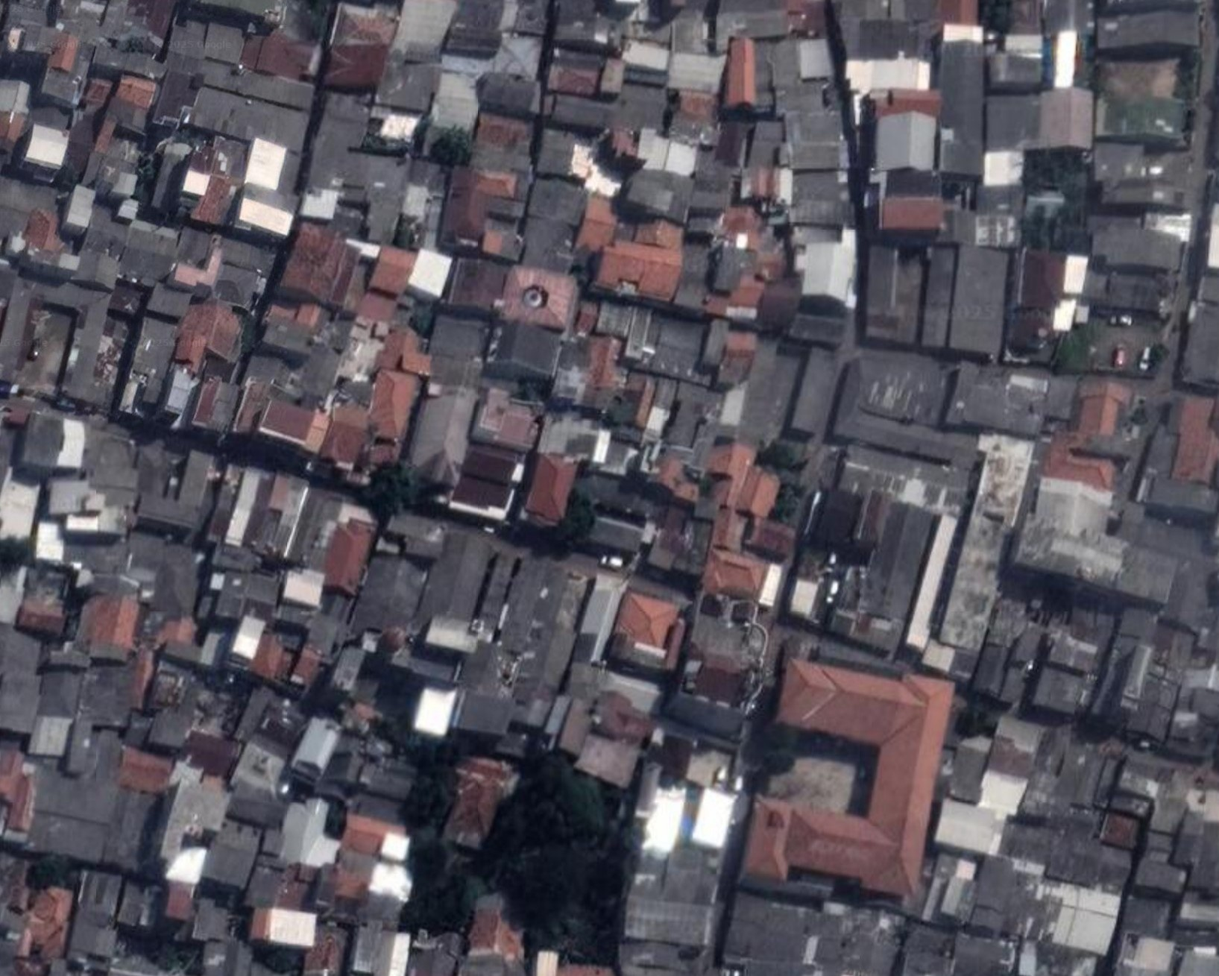building: (738, 650, 951, 905), (436, 542, 609, 765), (1012, 470, 1189, 606), (935, 432, 1035, 652), (227, 295, 360, 459), (285, 95, 422, 244), (832, 348, 997, 471), (965, 845, 1133, 959), (149, 19, 319, 127), (536, 653, 670, 788), (661, 597, 783, 740), (0, 277, 131, 409), (18, 764, 166, 875), (719, 891, 906, 976), (621, 839, 732, 976), (1101, 748, 1219, 872), (278, 493, 382, 632), (40, 417, 148, 547), (616, 288, 747, 394), (408, 529, 510, 664), (1015, 721, 1125, 841), (204, 460, 314, 578), (943, 702, 1049, 824), (1041, 374, 1146, 492), (995, 804, 1134, 893), (221, 597, 340, 700), (119, 437, 222, 546), (116, 279, 194, 422), (1085, 607, 1169, 739), (392, 385, 479, 509), (166, 222, 282, 315), (946, 366, 1079, 445), (835, 443, 971, 520), (853, 501, 934, 624), (430, 744, 519, 851), (66, 656, 144, 778), (347, 551, 433, 659), (137, 438, 227, 540), (271, 224, 366, 320), (437, 165, 530, 261), (80, 41, 170, 140), (187, 88, 313, 157), (1010, 246, 1089, 356), (114, 531, 210, 621), (588, 226, 688, 312), (902, 510, 959, 653), (320, 0, 400, 99), (225, 734, 305, 832), (149, 781, 230, 877), (269, 790, 355, 878), (1091, 140, 1195, 212), (8, 880, 85, 976), (329, 812, 411, 902), (66, 870, 136, 975), (610, 590, 690, 681), (1048, 815, 1141, 893), (947, 247, 1011, 360), (700, 436, 788, 518), (1025, 626, 1101, 720), (420, 71, 492, 169), (206, 559, 285, 645), (897, 923, 1023, 976), (449, 441, 530, 523), (416, 317, 496, 400), (972, 616, 1044, 707), (942, 37, 988, 178), (698, 540, 788, 612), (831, 4, 938, 64), (140, 677, 216, 761), (77, 586, 154, 668), (494, 262, 583, 332), (861, 249, 924, 346), (1095, 0, 1203, 56), (1085, 218, 1185, 278), (1120, 659, 1188, 747), (785, 148, 857, 231), (174, 294, 245, 378), (1093, 84, 1191, 144), (468, 109, 548, 182), (73, 200, 139, 288), (0, 623, 50, 739), (194, 816, 267, 895), (463, 889, 536, 968), (793, 228, 858, 316), (313, 398, 385, 477), (784, 343, 842, 440), (471, 380, 551, 450), (975, 152, 1032, 248), (116, 220, 186, 298), (1159, 549, 1219, 640), (775, 106, 848, 179), (488, 317, 567, 384), (175, 720, 254, 786), (443, 254, 512, 329), (20, 408, 95, 477), (284, 711, 353, 786), (1164, 393, 1219, 487), (799, 478, 865, 556), (387, 0, 460, 69), (771, 40, 839, 113), (520, 450, 579, 530), (615, 168, 696, 226), (660, 379, 721, 456), (358, 366, 419, 442), (932, 798, 1013, 855), (536, 408, 614, 467), (242, 137, 313, 201), (1093, 784, 1156, 856), (1137, 470, 1219, 525), (749, 265, 809, 340), (258, 393, 334, 452), (843, 48, 934, 97), (473, 71, 554, 126), (255, 303, 321, 369), (871, 109, 937, 174), (518, 218, 586, 280), (226, 185, 294, 247), (612, 73, 680, 135), (919, 247, 957, 357), (582, 506, 654, 564), (316, 732, 374, 801), (0, 174, 56, 245), (785, 292, 851, 351), (339, 811, 413, 863), (375, 321, 439, 380), (527, 174, 595, 229), (639, 783, 688, 859), (443, 0, 505, 60), (1040, 86, 1096, 151), (1130, 847, 1192, 904), (355, 749, 418, 804), (582, 335, 627, 411), (714, 0, 790, 45), (572, 193, 623, 260), (187, 373, 241, 436), (241, 904, 323, 945), (688, 152, 736, 222), (0, 470, 48, 539), (20, 124, 78, 181), (688, 786, 738, 852), (151, 362, 202, 425), (544, 91, 617, 135), (255, 692, 311, 749), (325, 41, 390, 90), (114, 747, 179, 796), (553, 0, 613, 53), (1181, 302, 1218, 387), (14, 594, 78, 643), (1118, 893, 1174, 949), (366, 241, 418, 301), (713, 325, 760, 391), (1107, 933, 1179, 976), (404, 245, 455, 304), (984, 48, 1046, 96), (988, 95, 1039, 153), (1146, 617, 1199, 672), (546, 50, 604, 100), (0, 79, 36, 158), (702, 240, 751, 298), (666, 49, 726, 96), (717, 37, 756, 109), (410, 683, 459, 740), (302, 920, 350, 976), (937, 857, 979, 921), (270, 860, 318, 916), (405, 931, 464, 976), (744, 518, 800, 565), (879, 198, 948, 236), (490, 31, 543, 80), (116, 881, 163, 932), (349, 789, 408, 829), (154, 615, 200, 666), (1031, 942, 1102, 975), (193, 0, 285, 25), (707, 507, 753, 556), (36, 66, 86, 111), (4, 9, 54, 53), (652, 733, 696, 782), (346, 921, 385, 976), (1097, 807, 1143, 853), (937, 0, 985, 43), (354, 288, 400, 331), (1006, 1, 1045, 50), (632, 759, 663, 820), (373, 929, 413, 976), (202, 938, 252, 975), (298, 182, 341, 225), (538, 127, 576, 174), (620, 38, 671, 73), (594, 300, 638, 339), (916, 870, 949, 922), (191, 898, 230, 942), (63, 184, 98, 232), (918, 637, 959, 677), (507, 0, 549, 39), (670, 10, 708, 53), (46, 30, 82, 75), (162, 881, 197, 924), (1177, 896, 1219, 930), (4, 0, 46, 31), (597, 56, 626, 98), (1177, 948, 1218, 975), (1130, 871, 1164, 899), (1177, 873, 1186, 886)
tree: (454, 811, 648, 975), (509, 748, 625, 858), (400, 735, 452, 881), (392, 872, 472, 941), (1011, 195, 1087, 256), (548, 487, 600, 558), (364, 458, 423, 516), (1053, 319, 1100, 384), (751, 721, 806, 775), (1026, 150, 1086, 191), (753, 430, 802, 477), (300, 677, 345, 723), (256, 940, 307, 976), (434, 125, 476, 167), (771, 481, 806, 524), (197, 879, 241, 912), (410, 301, 444, 337), (366, 136, 408, 160), (391, 224, 420, 256), (983, 2, 1013, 28), (309, 13, 333, 44), (937, 179, 965, 205), (132, 163, 158, 189), (412, 118, 431, 144), (1151, 342, 1170, 364), (1132, 407, 1149, 426), (130, 36, 145, 52)
